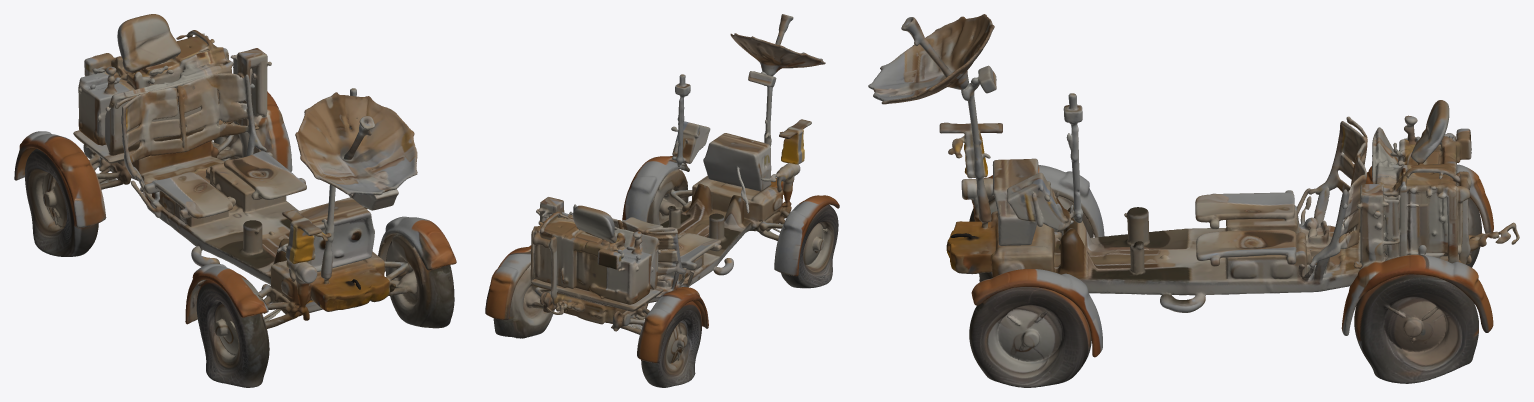
File: apollo-lunar-roving-vehicle.glb
The picture shows the model from 3 angles, left to right: view 1: azimuth 30°, elevation 25°; view 2: azimuth 150°, elevation 25°; view 3: azimuth 270°, elevation 25°; orthographic projection. The views are drawn at different scales.
Visible parts, largest first — view 1: tripo_node_41a75ee7-2340-4109-92e0-6a4e1d9841ef; view 2: tripo_node_41a75ee7-2340-4109-92e0-6a4e1d9841ef; view 3: tripo_node_41a75ee7-2340-4109-92e0-6a4e1d9841ef.
Boxes of the visible parts, x1,y1,x2,y2 form: tripo_node_41a75ee7-2340-4109-92e0-6a4e1d9841ef: (14, 14, 456, 387); tripo_node_41a75ee7-2340-4109-92e0-6a4e1d9841ef: (485, 14, 839, 387); tripo_node_41a75ee7-2340-4109-92e0-6a4e1d9841ef: (868, 14, 1519, 387).
Bounding box in the file's own units: 0.4734 × 0.5279 × 1.
1 material, 1 textured.
